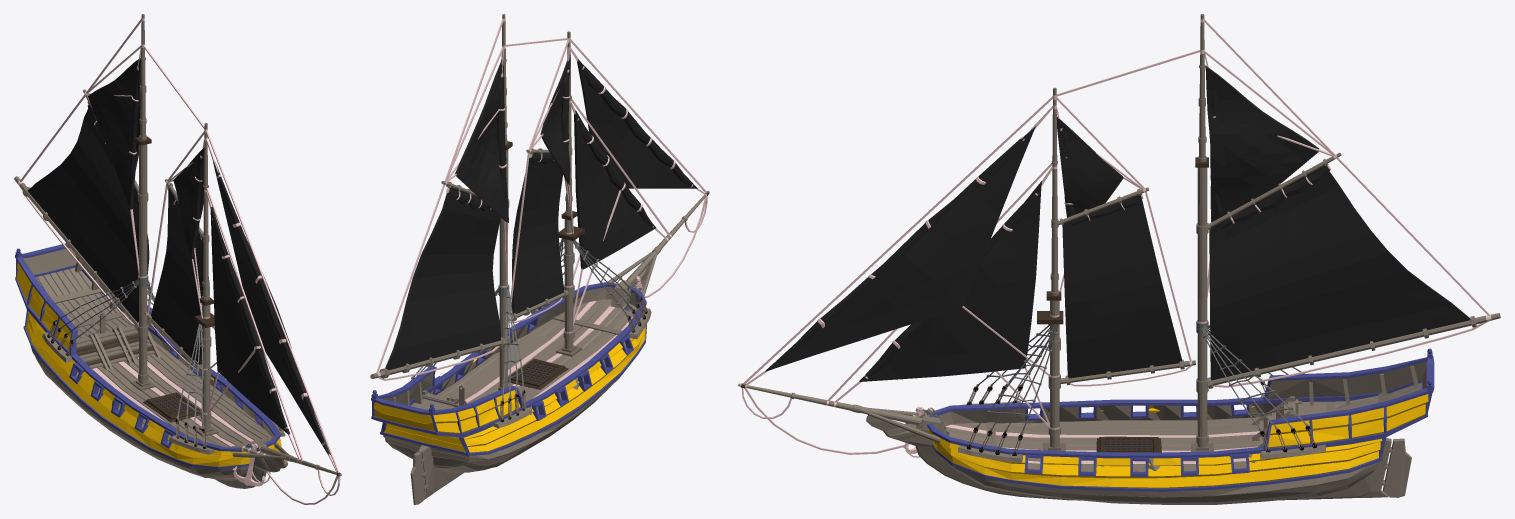
Rendered from SM_Veh_Veh_Boat_Large_01_Hull.glb.
The picture shows the model from 3 angles, left to right: view 1: azimuth 30°, elevation 25°; view 2: azimuth 150°, elevation 25°; view 3: azimuth 270°, elevation 25°; orthographic projection. The views are drawn at different scales.
Parts seen in each view (by area): view 1: SM_Veh_Veh_Boat_Large_01_Hull_00, SM_Veh_Veh_Boat_Large_01_Hull_02, SM_Veh_Veh_Boat_Large_01_Hull_06, SM_Veh_Veh_Boat_Large_01_Hull_04, SM_Veh_Veh_Boat_Large_01_Hull_01, SM_Veh_Veh_Boat_Large_01_Hull_07, SM_Veh_Veh_Boat_Large_01_Hull_03, SM_Veh_Veh_Boat_Large_01_Hull_05, SM_Veh_Veh_Boat_Large_01_Hull_08, SM_Veh_Veh_Boat_Large_01_Hull_09; view 2: SM_Veh_Veh_Boat_Large_01_Hull_00, SM_Veh_Veh_Boat_Large_01_Hull_02, SM_Veh_Veh_Boat_Large_01_Hull_06, SM_Veh_Veh_Boat_Large_01_Hull_04, SM_Veh_Veh_Boat_Large_01_Hull_01, SM_Veh_Veh_Boat_Large_01_Hull_03, SM_Veh_Veh_Boat_Large_01_Hull_07, SM_Veh_Veh_Boat_Large_01_Hull_08, SM_Veh_Veh_Boat_Large_01_Hull_05, SM_Veh_Veh_Boat_Large_01_Hull_09; view 3: SM_Veh_Veh_Boat_Large_01_Hull_00, SM_Veh_Veh_Boat_Large_01_Hull_02, SM_Veh_Veh_Boat_Large_01_Hull_06, SM_Veh_Veh_Boat_Large_01_Hull_04, SM_Veh_Veh_Boat_Large_01_Hull_01, SM_Veh_Veh_Boat_Large_01_Hull_03, SM_Veh_Veh_Boat_Large_01_Hull_07, SM_Veh_Veh_Boat_Large_01_Hull_05, SM_Veh_Veh_Boat_Large_01_Hull_08, SM_Veh_Veh_Boat_Large_01_Hull_09.
Boxes of the visible parts, <box> form: SM_Veh_Veh_Boat_Large_01_Hull_00: <box>15,243,341,504</box>; SM_Veh_Veh_Boat_Large_01_Hull_02: <box>28,58,149,322</box>; SM_Veh_Veh_Boat_Large_01_Hull_06: <box>210,161,330,455</box>; SM_Veh_Veh_Boat_Large_01_Hull_04: <box>151,147,209,364</box>; SM_Veh_Veh_Boat_Large_01_Hull_01: <box>14,14,151,383</box>; SM_Veh_Veh_Boat_Large_01_Hull_07: <box>206,139,337,472</box>; SM_Veh_Veh_Boat_Large_01_Hull_03: <box>144,123,214,429</box>; SM_Veh_Veh_Boat_Large_01_Hull_05: <box>143,45,339,472</box>; SM_Veh_Veh_Boat_Large_01_Hull_08: <box>87,46,141,263</box>; SM_Veh_Veh_Boat_Large_01_Hull_09: <box>167,139,204,318</box>; SM_Veh_Veh_Boat_Large_01_Hull_00: <box>371,190,709,504</box>; SM_Veh_Veh_Boat_Large_01_Hull_02: <box>385,61,508,370</box>; SM_Veh_Veh_Boat_Large_01_Hull_06: <box>574,59,697,269</box>; SM_Veh_Veh_Boat_Large_01_Hull_04: <box>511,57,570,313</box>; SM_Veh_Veh_Boat_Large_01_Hull_01: <box>370,14,512,390</box>; SM_Veh_Veh_Boat_Large_01_Hull_03: <box>508,31,584,349</box>; SM_Veh_Veh_Boat_Large_01_Hull_07: <box>571,48,703,325</box>; SM_Veh_Veh_Boat_Large_01_Hull_08: <box>446,47,507,286</box>; SM_Veh_Veh_Boat_Large_01_Hull_05: <box>505,38,707,320</box>; SM_Veh_Veh_Boat_Large_01_Hull_09: <box>529,48,571,228</box>; SM_Veh_Veh_Boat_Large_01_Hull_00: <box>738,324,1434,504</box>; SM_Veh_Veh_Boat_Large_01_Hull_02: <box>1205,66,1470,380</box>; SM_Veh_Veh_Boat_Large_01_Hull_06: <box>765,126,1041,381</box>; SM_Veh_Veh_Boat_Large_01_Hull_04: <box>1056,117,1181,378</box>; SM_Veh_Veh_Boat_Large_01_Hull_01: <box>1195,14,1500,447</box>; SM_Veh_Veh_Boat_Large_01_Hull_03: <box>1037,87,1195,447</box>; SM_Veh_Veh_Boat_Large_01_Hull_07: <box>745,106,1052,427</box>; SM_Veh_Veh_Boat_Large_01_Hull_05: <box>743,50,1200,427</box>; SM_Veh_Veh_Boat_Large_01_Hull_08: <box>1204,53,1333,297</box>; SM_Veh_Veh_Boat_Large_01_Hull_09: <box>1056,107,1143,292</box>.
Bounding box in the file's own units: 7.46 × 25.42 × 36.19.
Materials: 1 (1 with a texture image).
